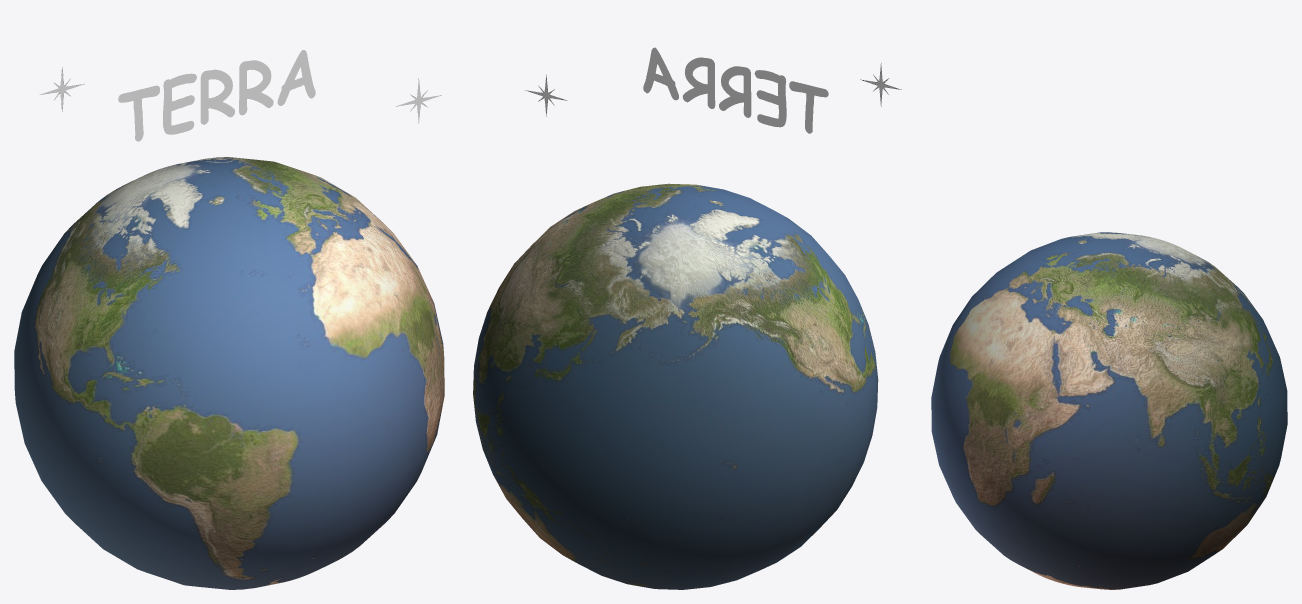
Rendered from terra.glb.
The picture shows the model from 3 angles, left to right: view 1: azimuth 30°, elevation 25°; view 2: azimuth 150°, elevation 25°; view 3: azimuth 270°, elevation 25°; orthographic projection. The views are drawn at different scales.
Visible parts, largest first — view 1: Terra, Letra; view 2: Terra, Letra; view 3: Terra.
Part boxes in pixels (x1,y1,x2,y2): Terra: [14, 157, 444, 589]; Letra: [118, 50, 315, 141]; Terra: [473, 183, 878, 589]; Letra: [643, 47, 828, 133]; Terra: [931, 232, 1287, 589].
Size of the model in its own units: 1.4 by 1.9 by 1.3.
2 materials, 2 textured.
